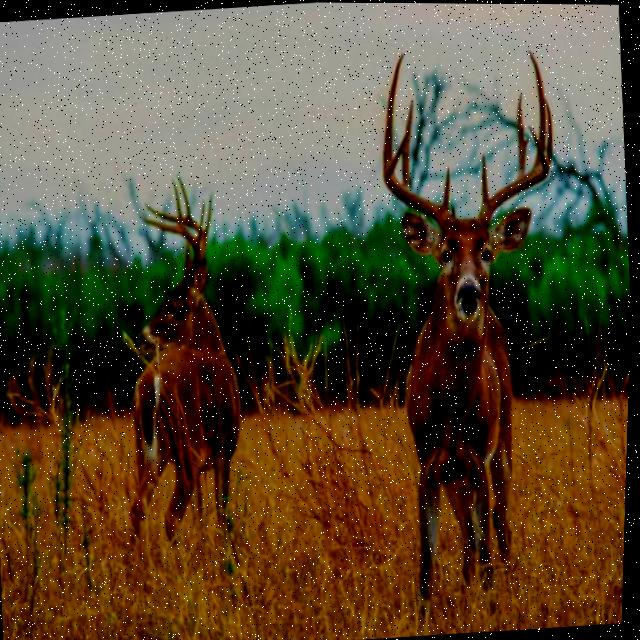L-F: (385, 127, 452, 231)
L-G1: (443, 165, 451, 209)
R-F: (480, 126, 551, 226)
R-G1: (482, 152, 489, 206)
R-G2: (517, 93, 527, 175)
